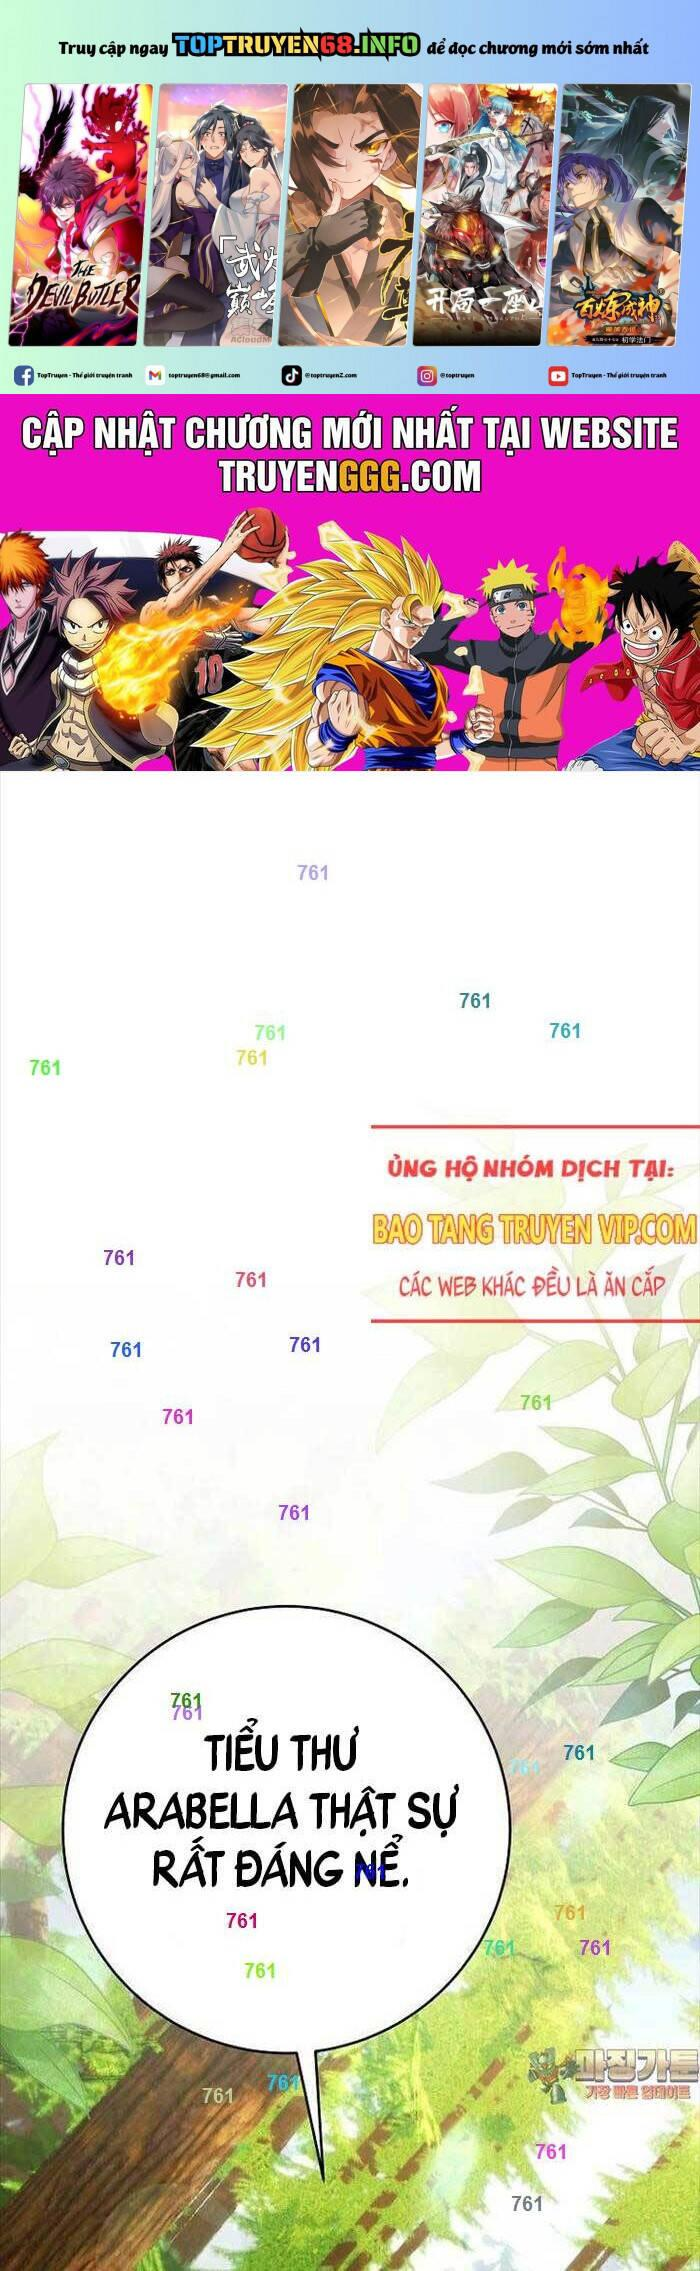quangcao: (0, 0, 700, 781), (367, 1120, 700, 1324)
